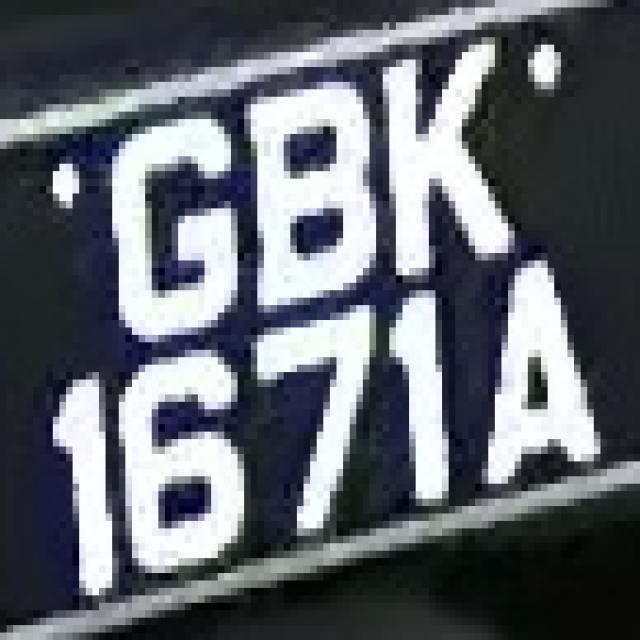1: (389, 275, 462, 521), (59, 350, 119, 618)
6: (92, 335, 258, 595)
7: (218, 290, 382, 551)
A: (455, 246, 620, 521)
B: (224, 67, 376, 305)
G: (92, 97, 251, 342)
K: (370, 45, 514, 290)
